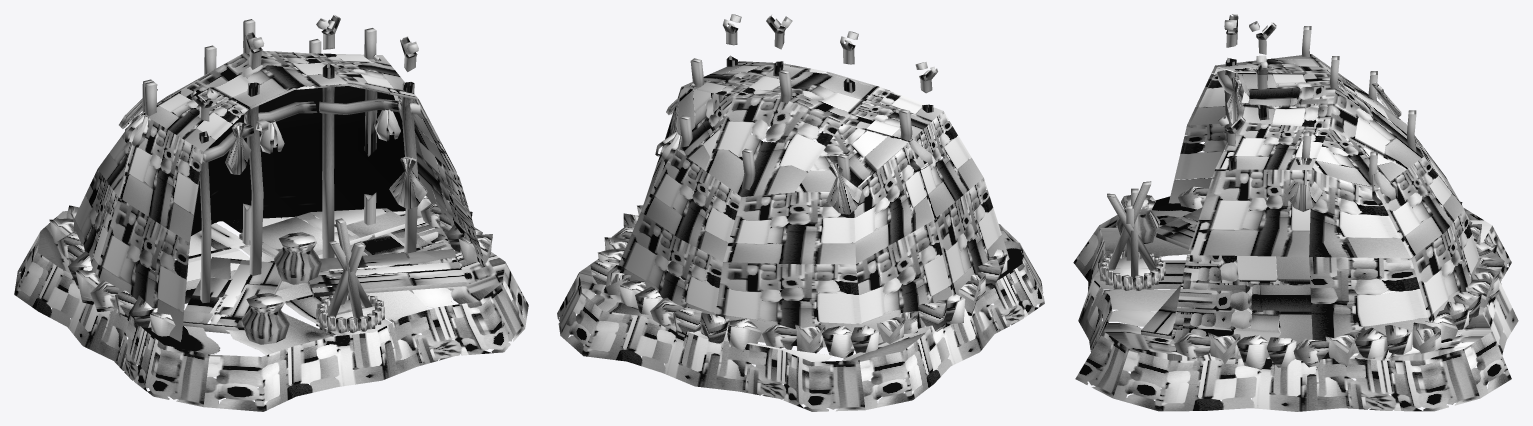
File: house_01.dae
3 views of the same model, side by side, from view 1: azimuth 30°, elevation 25°; view 2: azimuth 150°, elevation 25°; view 3: azimuth 270°, elevation 25° (orthographic). The views are drawn at different scales.
Visible parts, largest first — view 1: house_1; view 2: house_1; view 3: house_1.
Part boxes in pixels (x1,y1,x2,y2): house_1: (14,15,528,411); house_1: (557,14,1044,411); house_1: (1073,14,1518,411).
Size of the model in its own units: 12.37 by 12.76 by 8.93.
